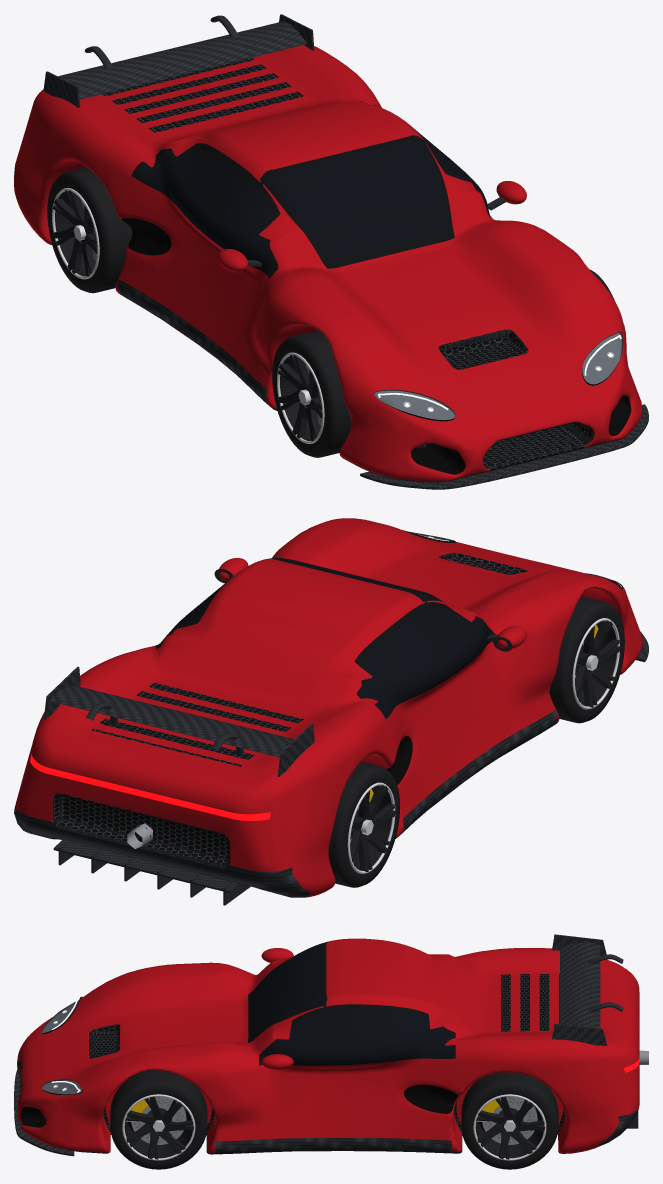
File: original_exotic_supercar_v10_source.glb
The picture shows the model from 3 angles, top to bottom: view 1: azimuth 30°, elevation 25°; view 2: azimuth 150°, elevation 25°; view 3: azimuth 270°, elevation 25°; orthographic projection. The views are drawn at different scales.
Parts seen in each view (by area): view 1: Body_Paint, Body_Glass, Intakes_And_Vents, Rear_Wing, Window_Trim, Wheel_RR_Tyre, Wheel_FR_Tyre, Intake_Walls, Front_Splitter, Wheel_RR_Rim, Wheel_FR_Rim, Body_Carbon (+4 smaller); view 2: Body_Paint, Intakes_And_Vents, Body_Glass, Rear_Wing, Body_Carbon, Wheel_FR_Tyre, Wheel_RR_Tyre, Wheel_FR_Rim, Wheel_RR_Rim, Window_Trim, Rear_Diffuser, Taillight_LEDs (+4 smaller); view 3: Body_Paint, Body_Glass, Rear_Wing, Wheel_FL_Tyre, Wheel_RL_Tyre, Intakes_And_Vents, Body_Carbon, Window_Trim, Wheel_RL_Rim, Wheel_FL_Rim, Intake_Walls, Wheel_FL_BrakeDisc (+7 smaller).
Part boxes in pixels (x1,y1,x2,y2): Body_Paint: (14,45,642,481); Body_Glass: (137,134,489,271); Intakes_And_Vents: (47,57,594,482); Rear_Wing: (43,14,314,107); Window_Trim: (131,101,492,279); Wheel_RR_Tyre: (47,167,132,293); Wheel_FR_Tyre: (272,330,351,457); Intake_Walls: (121,218,631,474); Front_Splitter: (360,404,648,489); Wheel_RR_Rim: (53,190,97,276); Wheel_FR_Rim: (278,355,322,440); Body_Carbon: (14,167,622,481); Body_Paint: (15,518,642,897); Intakes_And_Vents: (52,553,622,867); Body_Glass: (155,558,491,712); Rear_Wing: (44,666,314,776); Body_Carbon: (14,709,557,897); Wheel_FR_Tyre: (549,596,624,723); Wheel_RR_Tyre: (328,762,399,887); Wheel_FR_Rim: (575,620,620,707); Wheel_RR_Rim: (350,785,395,871); Window_Trim: (156,558,495,718); Rear_Diffuser: (53,840,239,892); Taillight_LEDs: (30,754,270,820); Body_Paint: (17,938,639,1153); Body_Glass: (253,943,451,1062); Rear_Wing: (552,934,623,1045); Wheel_FL_Tyre: (110,1070,207,1169); Wheel_RL_Tyre: (461,1072,558,1169); Intakes_And_Vents: (18,974,575,1154); Body_Carbon: (215,1108,638,1153); Window_Trim: (248,942,455,1065); Wheel_RL_Rim: (475,1096,545,1159); Wheel_FL_Rim: (124,1096,193,1159); Intake_Walls: (20,1084,458,1127); Wheel_FL_BrakeDisc: (131,1096,186,1144).
Size of the model in its own units: 2.01 by 1.22 by 4.7.
16 materials, 3 textured.
